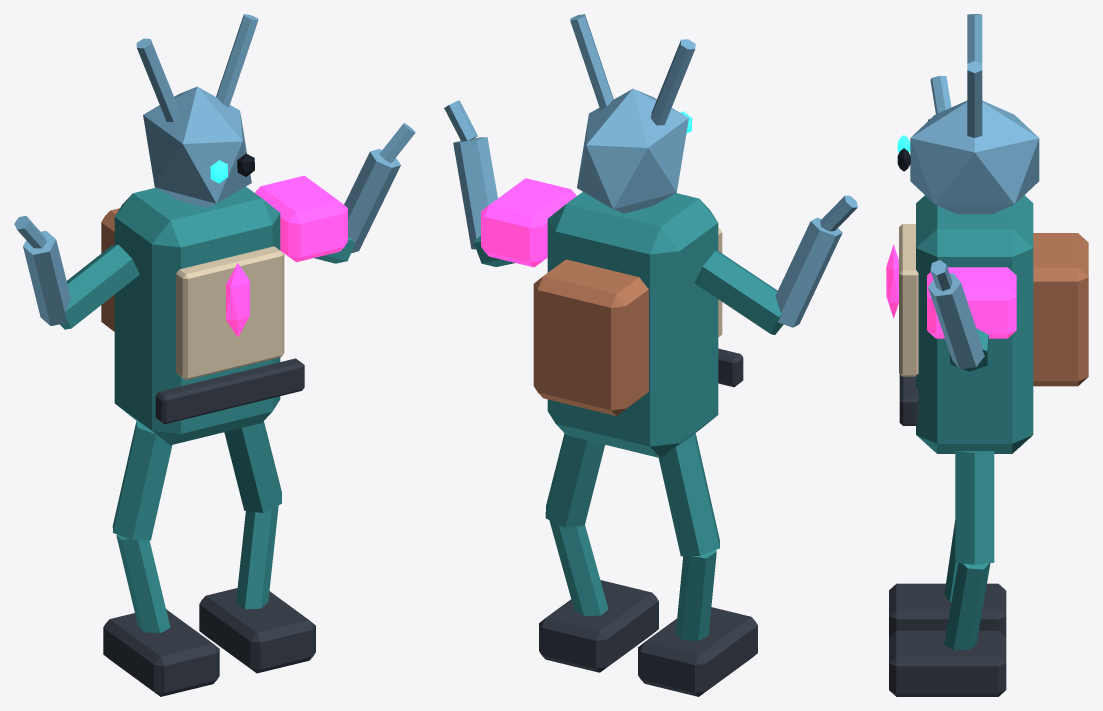
Rendered from npcs_021_seed78877.glb.
3 views of the same model, side by side, from view 1: azimuth 30°, elevation 25°; view 2: azimuth 150°, elevation 25°; view 3: azimuth 270°, elevation 25° (orthographic). The views are drawn at different scales.
Visible parts, largest first — view 1: npcs_021_seed78877; view 2: npcs_021_seed78877; view 3: npcs_021_seed78877.
Part boxes in pixels (<box>): npcs_021_seed78877: <box>14,14,415,696</box>; npcs_021_seed78877: <box>444,14,857,696</box>; npcs_021_seed78877: <box>886,14,1088,696</box>.
Size of the model in its own units: 1.52 by 2.27 by 0.6678.
